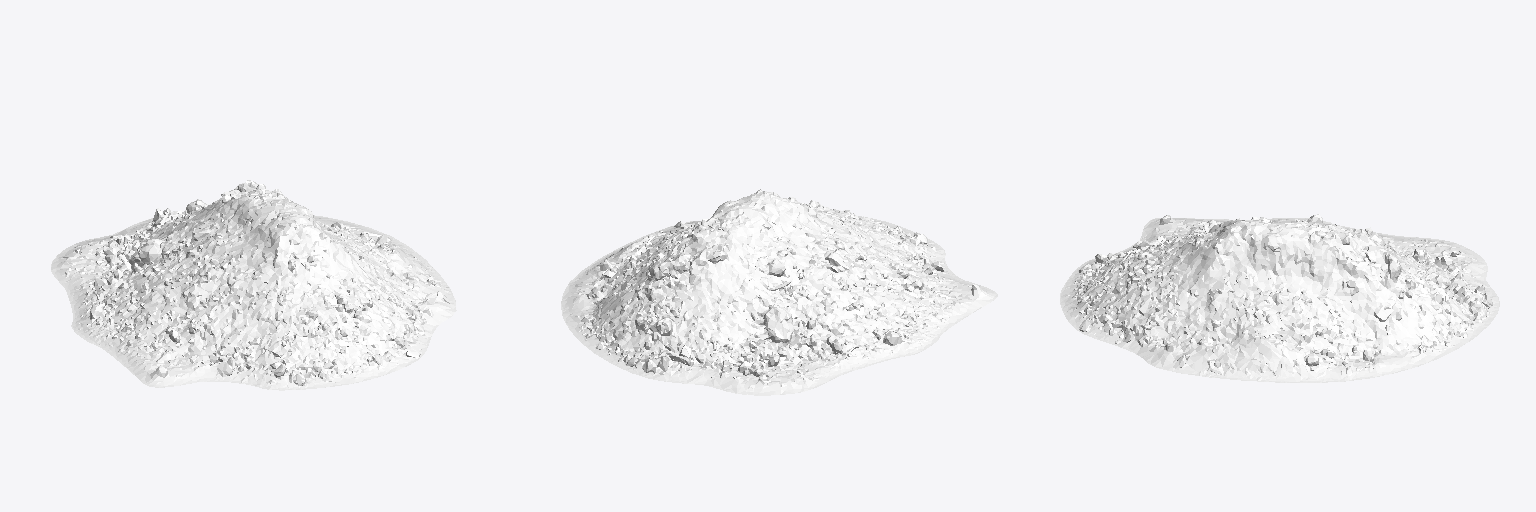
Rendered from a_pile_of_clay.obj.
The picture shows the model from 3 angles: view 1: azimuth 30°, elevation 25°; view 2: azimuth 150°, elevation 25°; view 3: azimuth 270°, elevation 25°; orthographic projection.
Visible parts, largest first — view 1: obj1; view 2: obj1; view 3: obj1.
Boxes of the visible parts, <box> form: obj1: <box>51,180,456,390</box>; obj1: <box>561,189,997,395</box>; obj1: <box>1060,214,1499,382</box>.
Bounding box in the file's own units: 4.45 × 1.11 × 5.